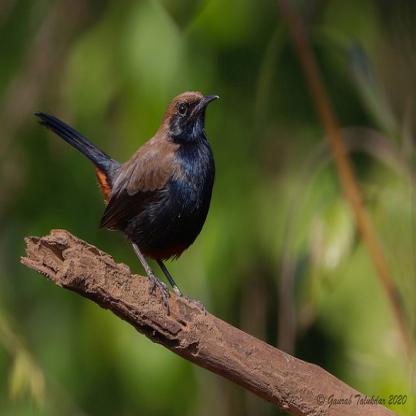Burung: (33, 92, 219, 313)
